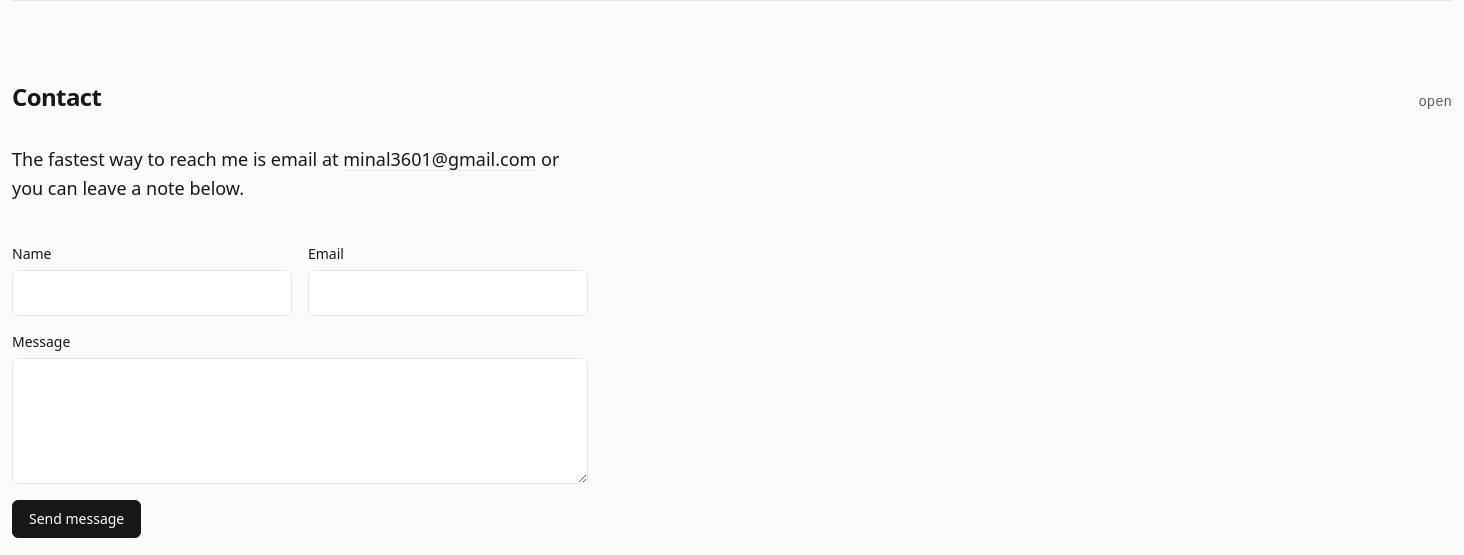
Test: Contact form › shows an error when the request fails
Type "Ada" into the field labelled "Name" at {"x": 152, "y": 292}, box x1=12 y1=270 x2=292 y2=316
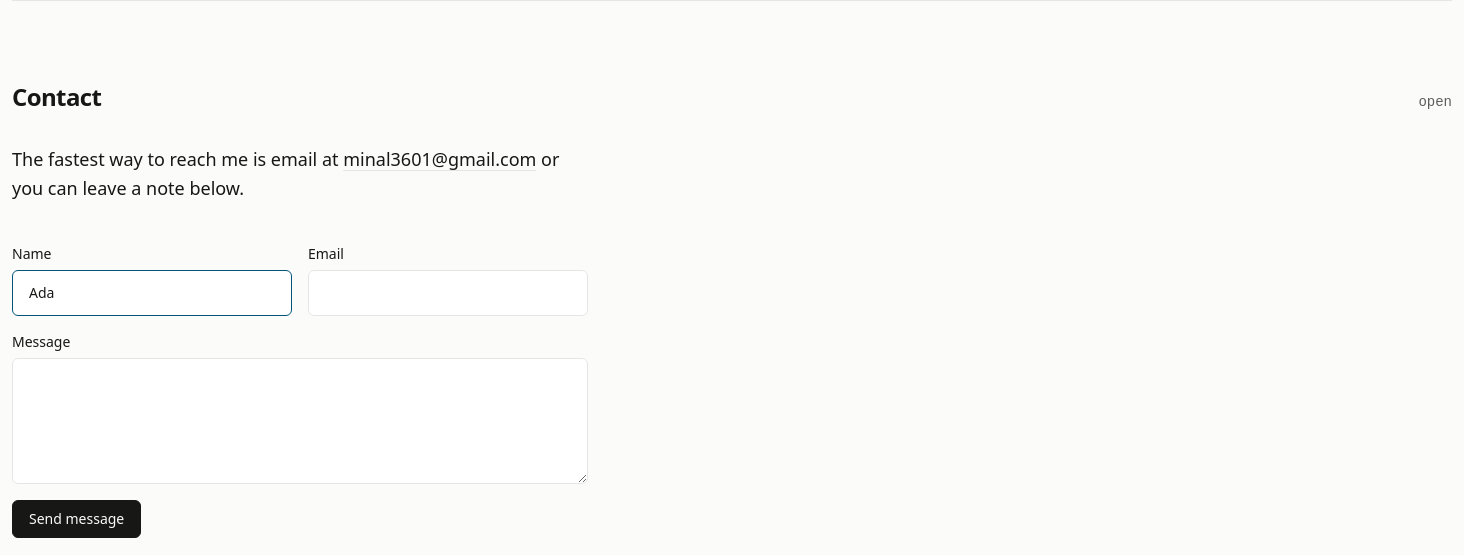
Type "ada@example.com" into the field labelled "Email" at {"x": 448, "y": 292}, box x1=308 y1=270 x2=588 y2=316
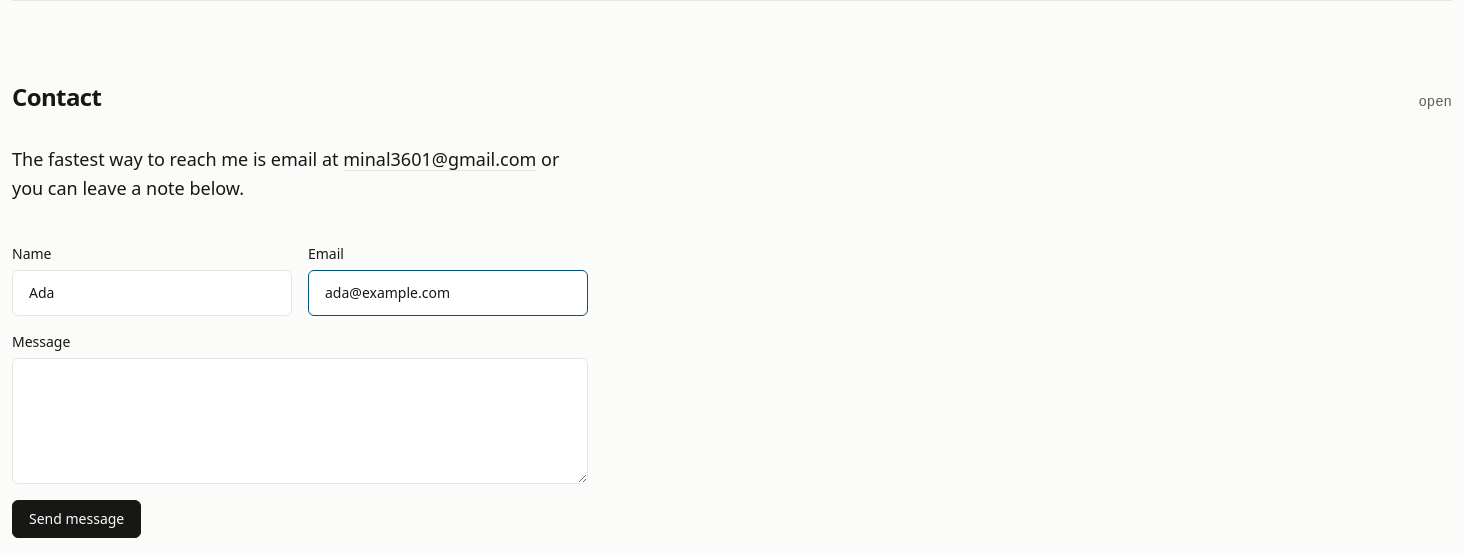
Type "Hello!" into the text box labelled "Message" at {"x": 300, "y": 420}, box x1=12 y1=358 x2=588 y2=484
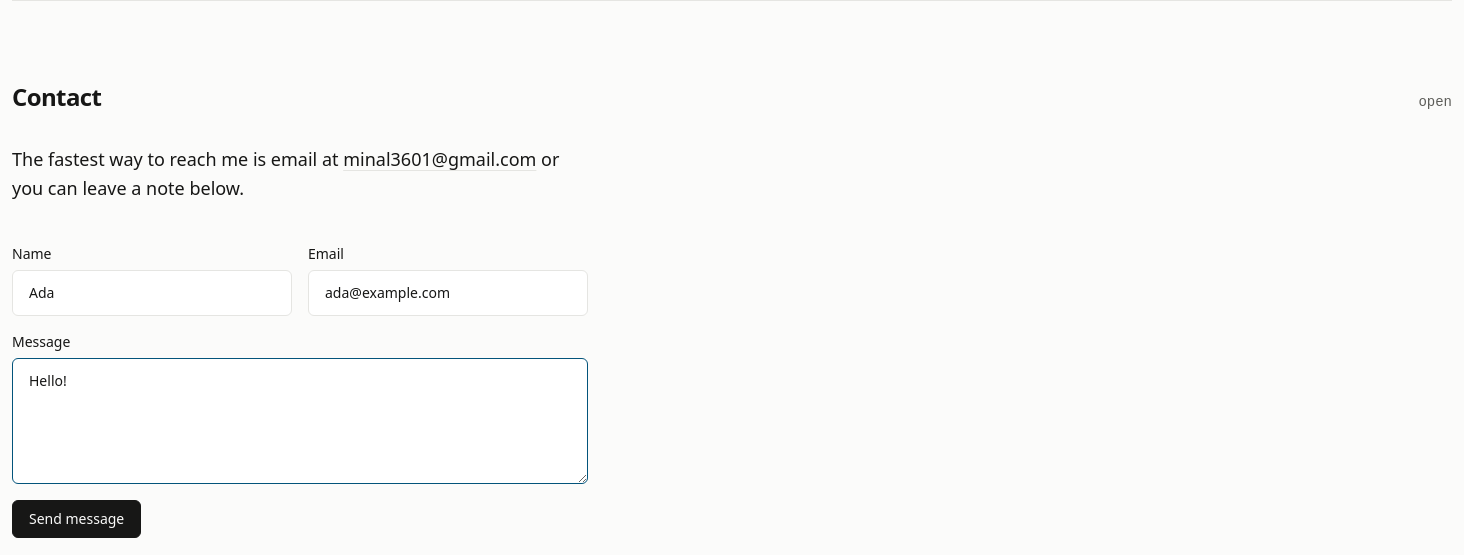
Click the button "Send message" at {"x": 77, "y": 518}, box x1=12 y1=500 x2=141 y2=538
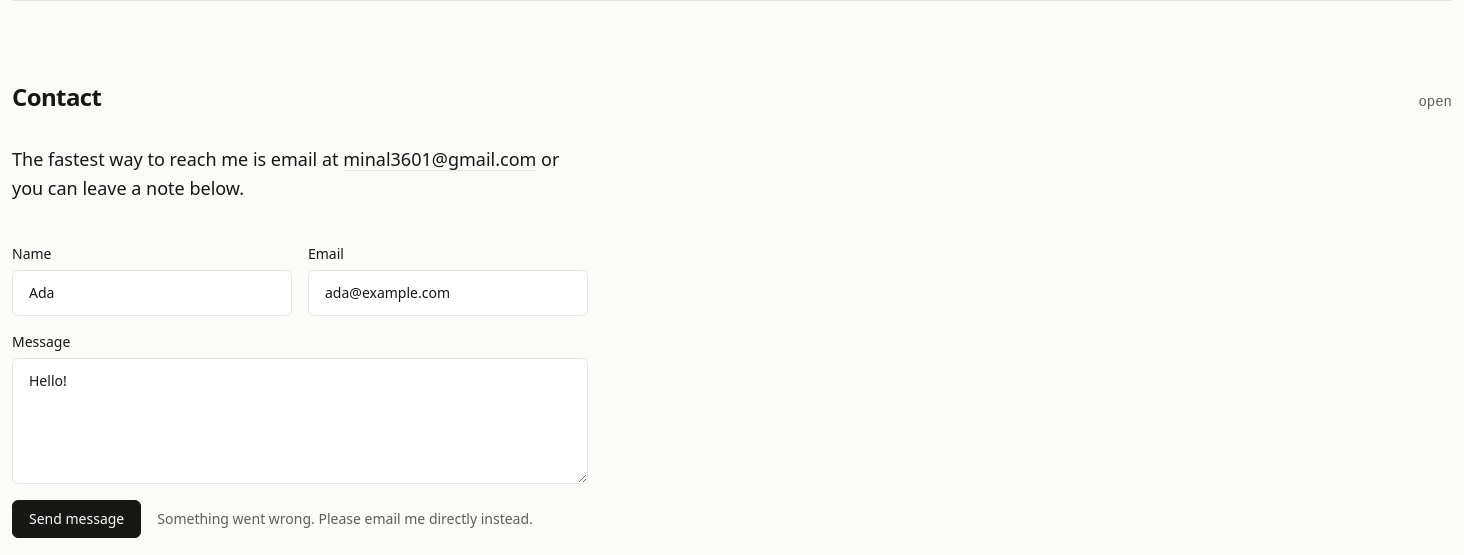
Now the text "Something went wrong. Please email me directly instead." is shown, box x1=157 y1=508 x2=533 y2=528
